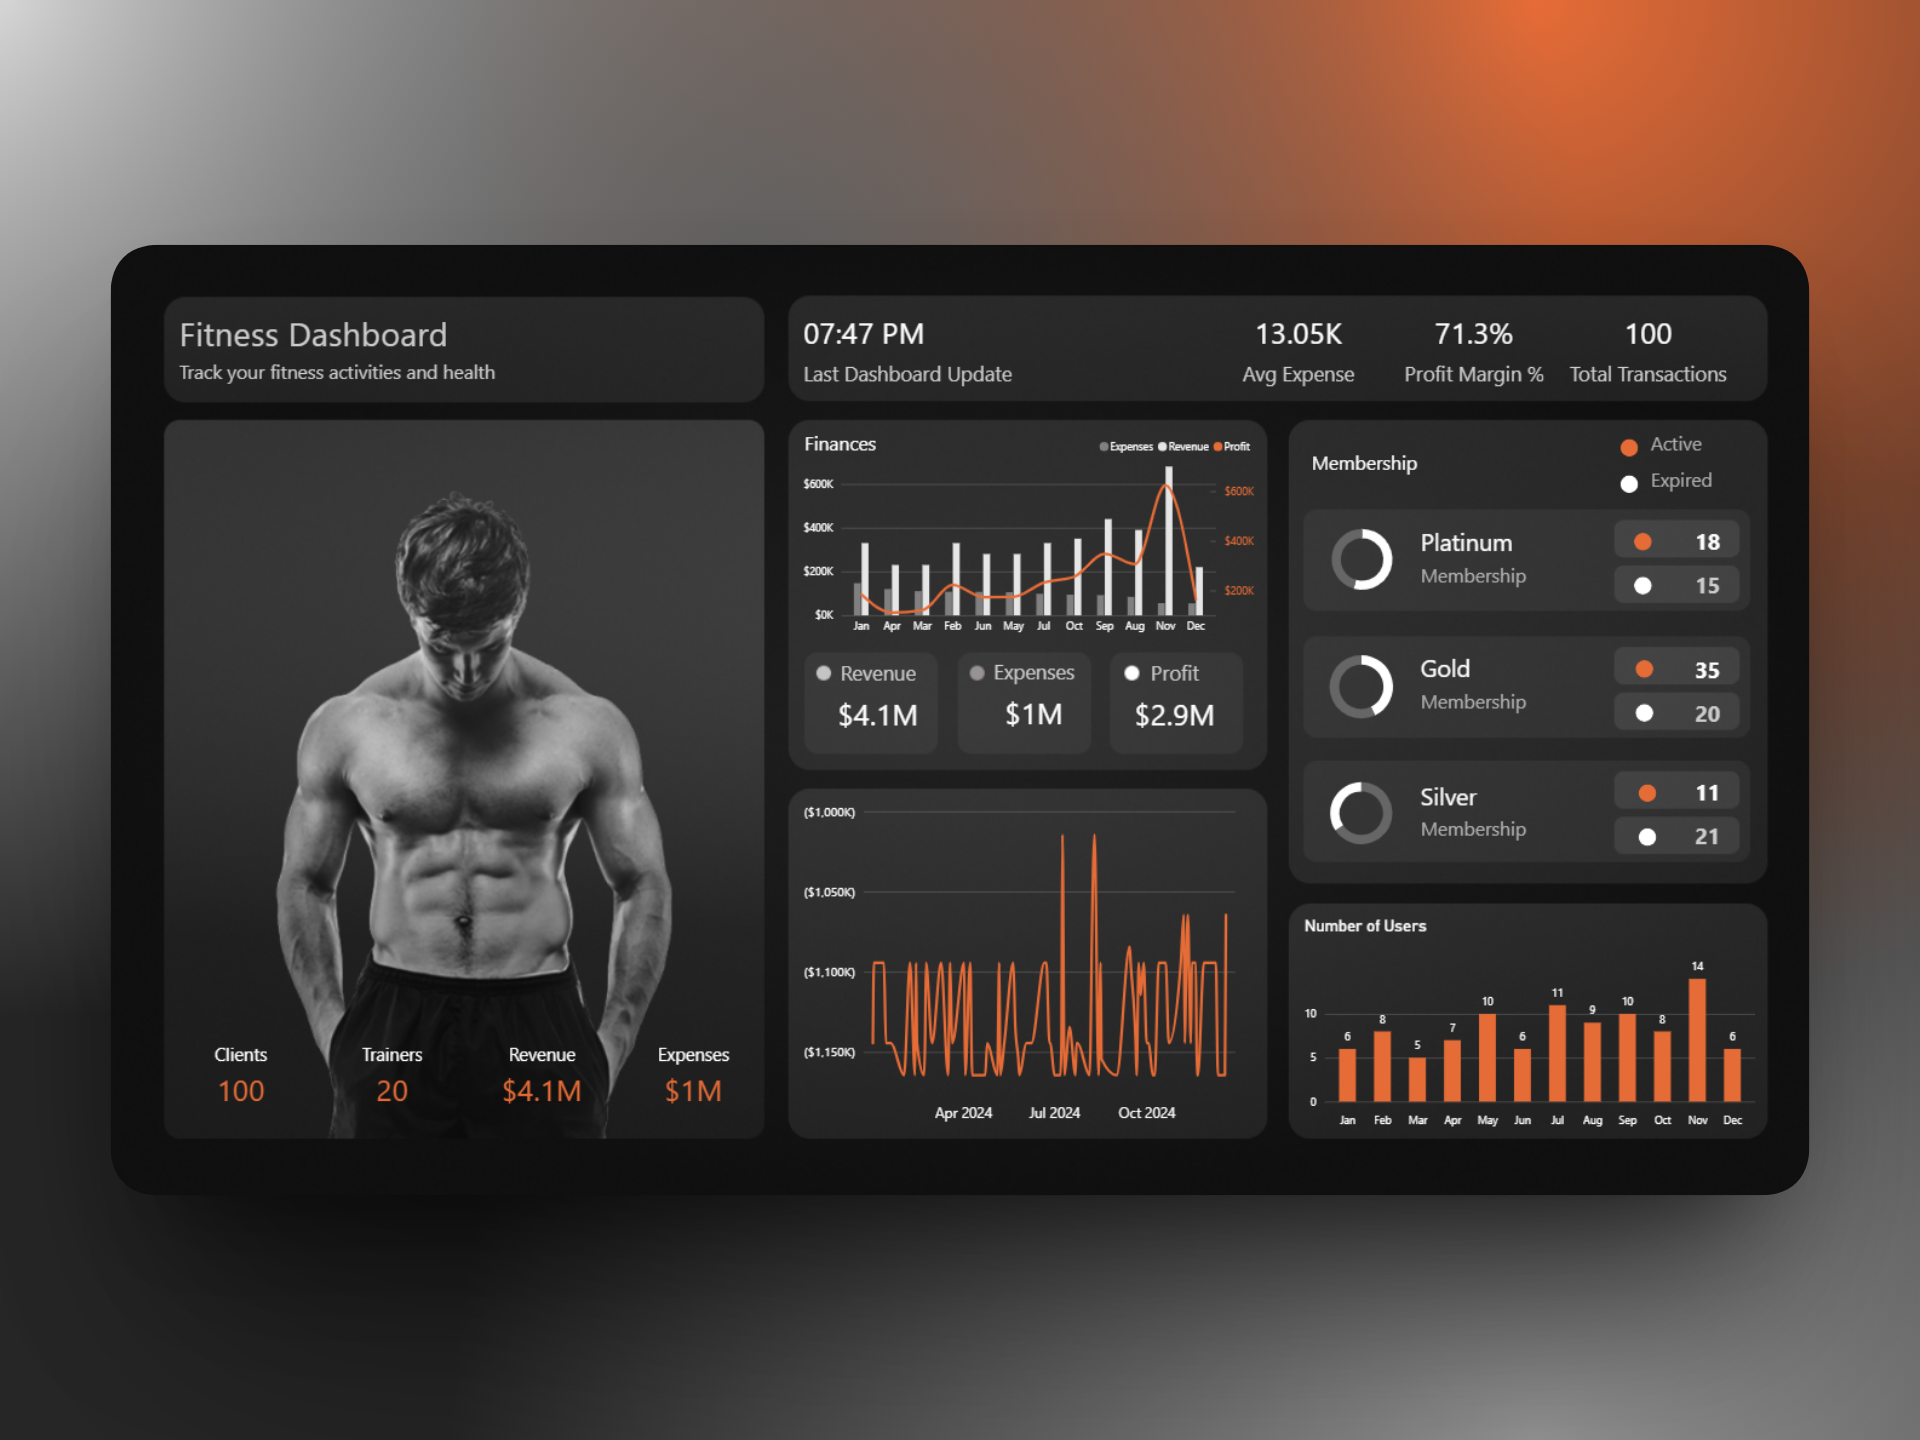

The page's visual inventory and layout, read from the dashboard file:
{"tool":"powerbi","page":{"name":"Dashboard","canvas":[1920,1080],"ordinal":0},"visuals":[{"type":"cardVisual","fields":{"Data":["_Measures.User_Count"]},"box":[67.1,887.1,166,100],"z":0},{"type":"cardVisual","fields":{"Data":["Count(Users.Trainer Name)"]},"box":[236.2,887.1,166,100],"z":1000},{"type":"cardVisual","fields":{"Data":["_Measures.Revenue"]},"box":[405.2,887.1,166,100],"z":2000},{"type":"cardVisual","fields":{"Data":["_Measures.Expenses"]},"box":[574.3,887.1,166,100],"z":3000},{"type":"cardVisual","fields":{"Data":["_Measures.Profit"]},"box":[1116,460.2,166,100],"z":4000},{"type":"cardVisual","fields":{"Data":["_Measures.Expenses"]},"box":[958.4,460.1,166,100],"z":5000},{"type":"cardVisual","fields":{"Data":["_Measures.Revenue"]},"box":[782.6,460.2,166,100],"z":6000},{"type":"lineChart","fields":{"Category":["Payments.PaymentDate"],"Y":["_Measures.Profit"]},"box":[766.2,615,538.8,396.2],"z":7000},{"type":"lineClusteredColumnComboChart","fields":{"Category":["Calendar.Month"],"Y":["_Measures.Expenses","_Measures.Revenue"],"Y2":["_Measures.Profit"]},"box":[766.4,200.9,538.2,259.1],"z":8000},{"type":"textbox","box":[782.9,211.4,165.7,54.3],"z":9000},{"type":"lineClusteredColumnComboChart","title":"Number of Users","fields":{"Category":["Calendar.Month"],"Y":["_Measures.User_Count"]},"box":[1328.8,743.8,538.8,272.5],"z":10000},{"type":"textbox","box":[1474.5,318.2,165.7,40],"z":11000,"group":"g2"},{"type":"group","id":"g1","title":"Group 1","box":[1474.5,460,166.4,80],"z":11000},{"type":"group","id":"g2","title":"Group 2","box":[1474.5,318.2,165.5,80],"z":12000},{"type":"textbox","box":[1475.1,603.6,165.7,40],"z":12000,"group":"g3"},{"type":"textbox","box":[1474.5,460,165.7,40],"z":13000,"group":"g1"},{"type":"group","id":"g3","title":"Group 3","box":[1474.5,603.6,166.4,80],"z":13000},{"type":"textbox","box":[1733.8,211.2,82.5,40],"z":14000,"group":"g7"},{"type":"textbox","box":[1733.8,251.2,82.5,40],"z":14000,"group":"g8"},{"type":"donutChart","fields":{"Category":["Users.Status"],"Y":["Users.Platinum Members"]},"box":[1341.7,299.6,134,115.4],"z":14000},{"type":"textbox","box":[1474.5,358.2,165.7,40],"z":14000,"group":"g2"},{"type":"textbox","box":[1474.5,643.5,165.7,40],"z":14001,"group":"g3"},{"type":"textbox","box":[1474.7,500,165.7,40],"z":14002,"group":"g1"},{"type":"donutChart","fields":{"Series":["Users.Status"],"Y":["Users.Gold Members"]},"box":[1341.7,441,132.1,119.1],"z":15000},{"type":"donutChart","fields":{"Category":["Users.Status"],"Y":["Users.Silver Members"]},"box":[1341.7,584.3,132.1,117.2],"z":16000},{"type":"cardVisual","fields":{"Data":["_Measure.Platinum Active"]},"box":[1768,314.7,66.7,42.7],"z":16001,"group":"g6"},{"type":"cardVisual","fields":{"Data":["_Measure.Platinum Expired"]},"box":[1768,362.7,67.3,45.3],"z":16002,"group":"g6"},{"type":"cardVisual","fields":{"Data":["Users.Gold Members"]},"box":[1767.8,458.5,66.7,42.7],"z":16003,"group":"g5"},{"type":"cardVisual","fields":{"Data":["_Measure.Gold Expired"]},"box":[1767.8,506.5,67.3,45.3],"z":16004,"group":"g5"},{"type":"cardVisual","fields":{"Data":["_Measure.Silver Active"]},"box":[1767.2,597.6,66.7,42.7],"z":16005,"group":"g4"},{"type":"cardVisual","fields":{"Data":["_Measure.Silver Expired"]},"box":[1767.2,645.6,67.3,45.3],"z":16006,"group":"g4"},{"type":"shape","box":[1700,221.2,20,20],"z":16007,"group":"g7"},{"type":"shape","box":[1700,261.2,20,20],"z":16007,"group":"g8"},{"type":"shape","box":[1714.5,326.4,20,20],"z":16007,"group":"g6"},{"type":"shape","box":[1714.5,375.5,20,20],"z":16008,"group":"g6"},{"type":"shape","box":[1716.5,468.7,20,20],"z":16009,"group":"g5"},{"type":"shape","box":[1716.5,517.8,20,20],"z":16010,"group":"g5"},{"type":"shape","box":[1720,609.6,20,20],"z":16011,"group":"g4"},{"type":"shape","box":[1720,658.7,20,20],"z":16012,"group":"g4"},{"type":"group","id":"g4","title":"Group 4","box":[1720,597.6,114.5,93.3],"z":16013},{"type":"group","id":"g5","title":"Group 5","box":[1716.5,458.5,118.7,93.3],"z":16014},{"type":"group","id":"g6","title":"Group 6","box":[1714.5,314.7,120.8,93.3],"z":16015},{"type":"group","id":"g7","title":"Group 7","box":[1700,211.2,116.2,40],"z":16016},{"type":"group","id":"g8","title":"Group 7","box":[1700,251.2,116.2,40],"z":16017},{"type":"textbox","box":[1352.5,233.8,165.7,54.3],"z":16018},{"type":"textbox","box":[202.7,76.3,203,54],"z":16020,"group":"g9"},{"type":"textbox","box":[80,129.9,422.6,54.2],"z":16021,"group":"g9"},{"type":"textbox","box":[80,75.9,203,54],"z":16022,"group":"g9"},{"type":"group","id":"g9","title":"Group 8","box":[80,75.9,422.6,108.2],"z":16023},{"type":"cardVisual","fields":{"Data":["_Measure.Last_Refresh"]},"box":[766,60,312,124],"z":16024},{"type":"cardVisual","fields":{"Data":["Expenses.Avg Expense"]},"box":[1234.1,72.9,209,97.2],"z":16027},{"type":"cardVisual","fields":{"Data":["Payments.Profit Margin %"]},"box":[1430.5,72.9,209,97.2],"z":16028},{"type":"cardVisual","fields":{"Data":["Payments.Total Transactions"]},"box":[1626.8,72.9,209,97.2],"z":16029}]}

Visuals, with their boxes on the page's 1920x1080 design canvas (x1, y1, x2, y2). These are canvas units, not pixel positions in the 1920x1440 screenshot, which may show the page scaled, cropped or inside an application window:
cardVisual - _Measures.User_Count: Rect(67, 887, 233, 987)
cardVisual - Count(Users.Trainer Name): Rect(236, 887, 402, 987)
cardVisual - _Measures.Revenue: Rect(405, 887, 571, 987)
cardVisual - _Measures.Expenses: Rect(574, 887, 740, 987)
cardVisual - _Measures.Profit: Rect(1116, 460, 1282, 560)
cardVisual - _Measures.Expenses: Rect(958, 460, 1124, 560)
cardVisual - _Measures.Revenue: Rect(783, 460, 949, 560)
lineChart - Payments.PaymentDate x _Measures.Profit: Rect(766, 615, 1305, 1011)
lineClusteredColumnComboChart - Calendar.Month x _Measures.Expenses: Rect(766, 201, 1305, 460)
textbox: Rect(783, 211, 949, 266)
"Number of Users" lineClusteredColumnComboChart: Rect(1329, 744, 1868, 1016)
textbox: Rect(1474, 318, 1640, 358)
"Group 1" group: Rect(1474, 460, 1641, 540)
"Group 2" group: Rect(1474, 318, 1640, 398)
textbox: Rect(1475, 604, 1641, 644)
textbox: Rect(1474, 460, 1640, 500)
"Group 3" group: Rect(1474, 604, 1641, 684)
textbox: Rect(1734, 211, 1816, 251)
textbox: Rect(1734, 251, 1816, 291)
donutChart - Users.Status x Users.Platinum Members: Rect(1342, 300, 1476, 415)
textbox: Rect(1474, 358, 1640, 398)
textbox: Rect(1474, 644, 1640, 684)
textbox: Rect(1475, 500, 1640, 540)
donutChart - Users.Status x Users.Gold Members: Rect(1342, 441, 1474, 560)
donutChart - Users.Status x Users.Silver Members: Rect(1342, 584, 1474, 702)
cardVisual - _Measure.Platinum Active: Rect(1768, 315, 1835, 357)
cardVisual - _Measure.Platinum Expired: Rect(1768, 363, 1835, 408)
cardVisual - Users.Gold Members: Rect(1768, 458, 1834, 501)
cardVisual - _Measure.Gold Expired: Rect(1768, 506, 1835, 552)
cardVisual - _Measure.Silver Active: Rect(1767, 598, 1834, 640)
cardVisual - _Measure.Silver Expired: Rect(1767, 646, 1834, 691)
shape: Rect(1700, 221, 1720, 241)
shape: Rect(1700, 261, 1720, 281)
shape: Rect(1714, 326, 1734, 346)
shape: Rect(1714, 376, 1734, 396)
shape: Rect(1716, 469, 1736, 489)
shape: Rect(1716, 518, 1736, 538)
shape: Rect(1720, 610, 1740, 630)
shape: Rect(1720, 659, 1740, 679)
"Group 4" group: Rect(1720, 598, 1834, 691)
"Group 5" group: Rect(1716, 458, 1835, 552)
"Group 6" group: Rect(1714, 315, 1835, 408)
"Group 7" group: Rect(1700, 211, 1816, 251)
"Group 7" group: Rect(1700, 251, 1816, 291)
textbox: Rect(1352, 234, 1518, 288)
textbox: Rect(203, 76, 406, 130)
textbox: Rect(80, 130, 503, 184)
textbox: Rect(80, 76, 283, 130)
"Group 8" group: Rect(80, 76, 503, 184)
cardVisual - _Measure.Last_Refresh: Rect(766, 60, 1078, 184)
cardVisual - Expenses.Avg Expense: Rect(1234, 73, 1443, 170)
cardVisual - Payments.Profit Margin %: Rect(1430, 73, 1640, 170)
cardVisual - Payments.Total Transactions: Rect(1627, 73, 1836, 170)
